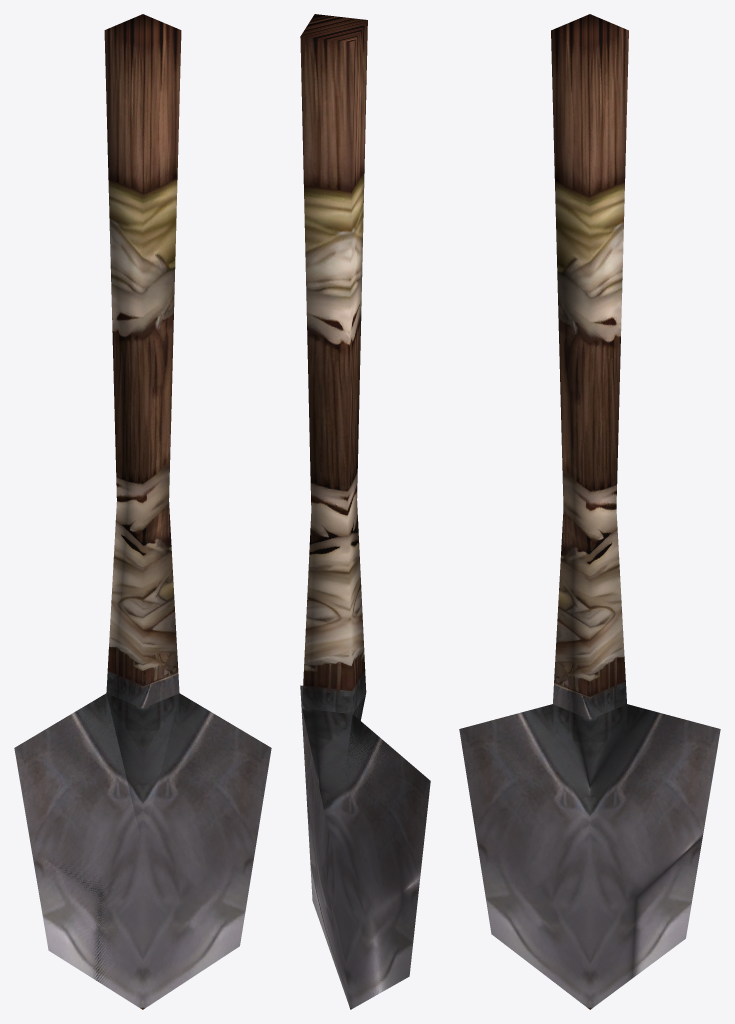
File: shovel.obj
The picture shows the model from 3 angles, left to right: view 1: azimuth 90°, elevation 25°; view 2: azimuth 210°, elevation 25°; view 3: azimuth 270°, elevation 25°; orthographic projection.
Parts seen in each view (by area): view 1: shovel; view 2: shovel; view 3: shovel.
Part boxes in pixels (<box>): shovel: <box>14,14,271,1009</box>; shovel: <box>300,14,430,1009</box>; shovel: <box>459,14,720,1009</box>.
Size of the model in its own units: 0.1117 by 1.56 by 0.3738.
1 material, 1 textured.
